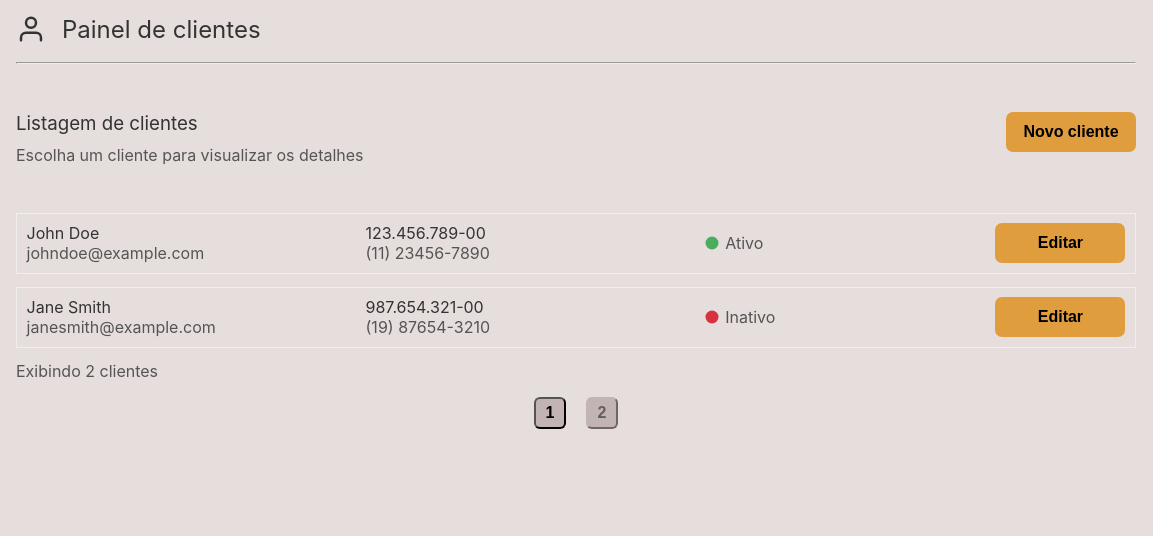
Scenario: ClientUpdate › renders the component
Click the button with test id "edit-button-1".
click(1060, 243)  # box [995, 223, 1125, 263]
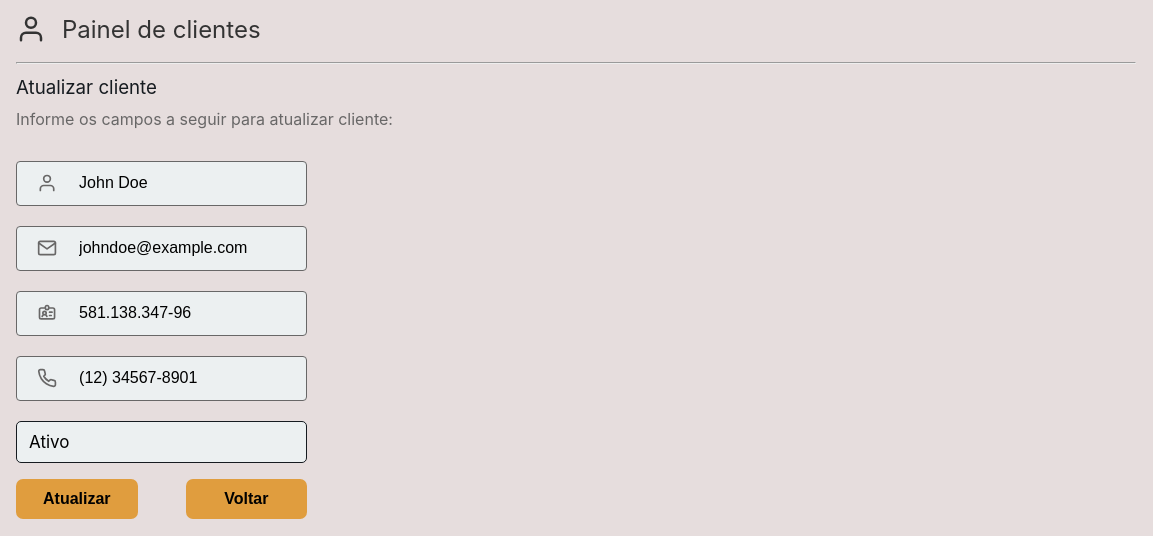
Expected: the heading "Atualizar cliente" is shown, [16, 76, 157, 99]
Expected: the text "Informe os campos a seguir para atualizar cliente:" is shown, [16, 109, 393, 129]
